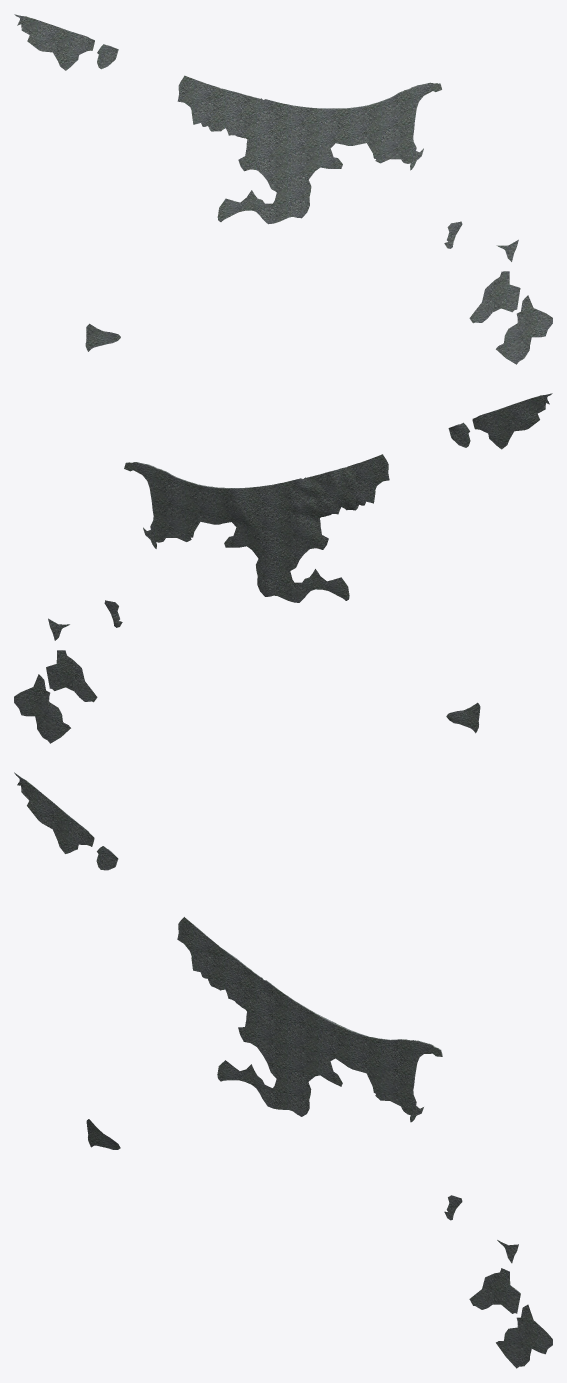
3 views of the same model, one above another, from view 1: azimuth 30°, elevation 25°; view 2: azimuth 150°, elevation 25°; view 3: azimuth 330°, elevation 25° (orthographic).
Size of the model in its own units: 22078 by 18527 by 130.
27 materials, 27 textured.
